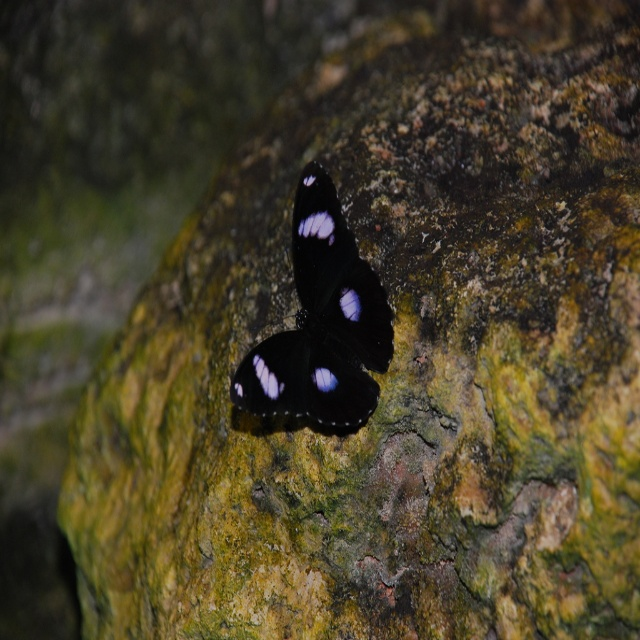Butterfly: (216, 148, 403, 465)
